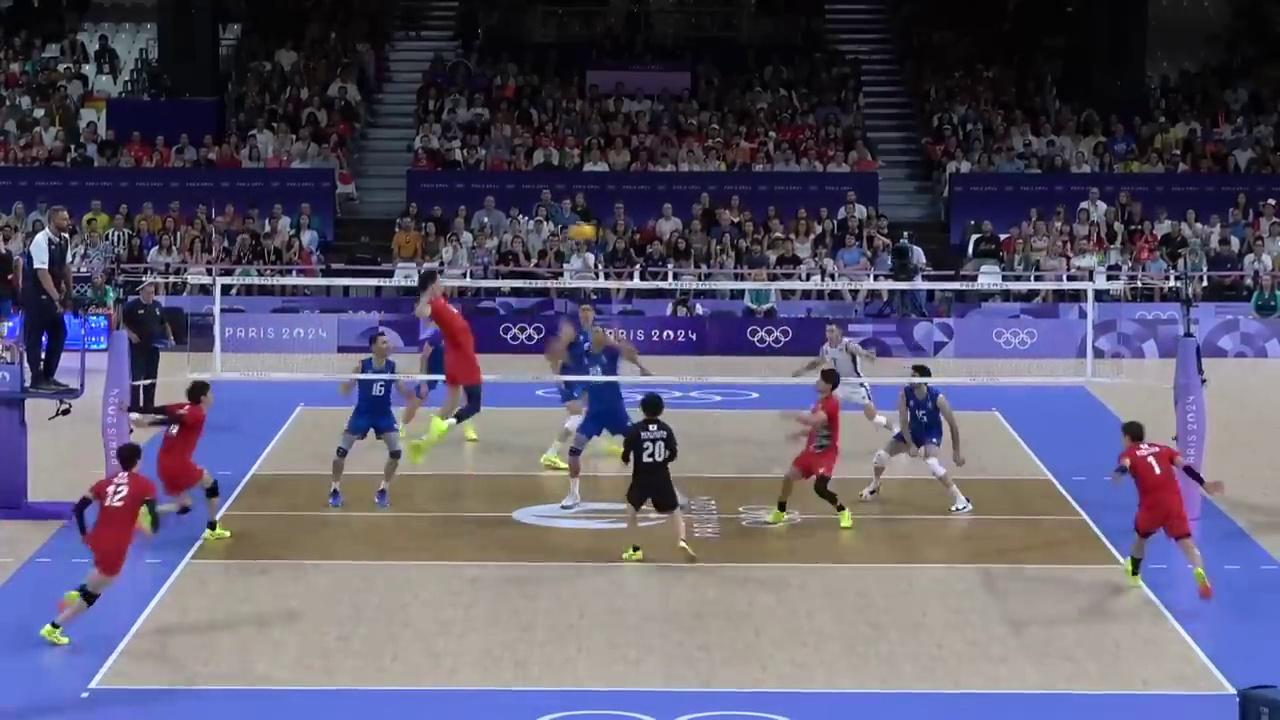ball: (569, 223, 596, 243)
